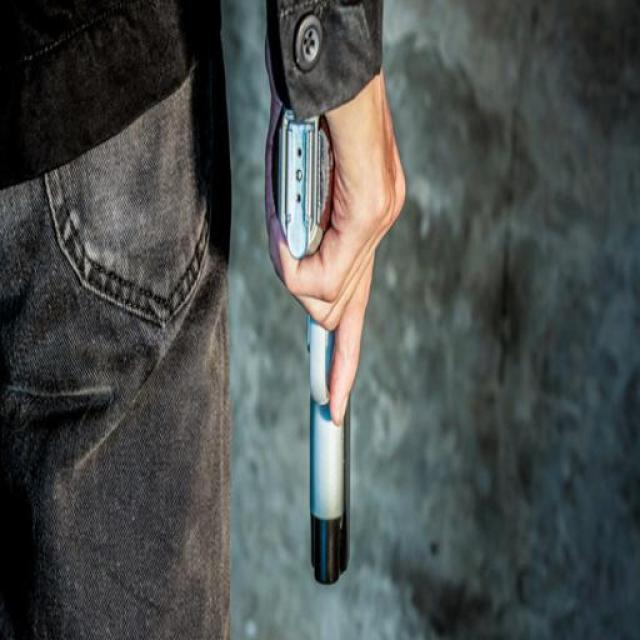pistol: (276, 96, 364, 586)
